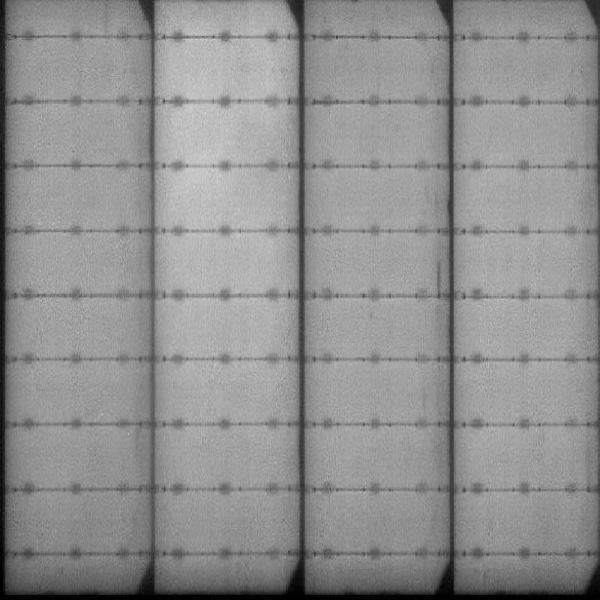scratch: (432, 259, 443, 305)
